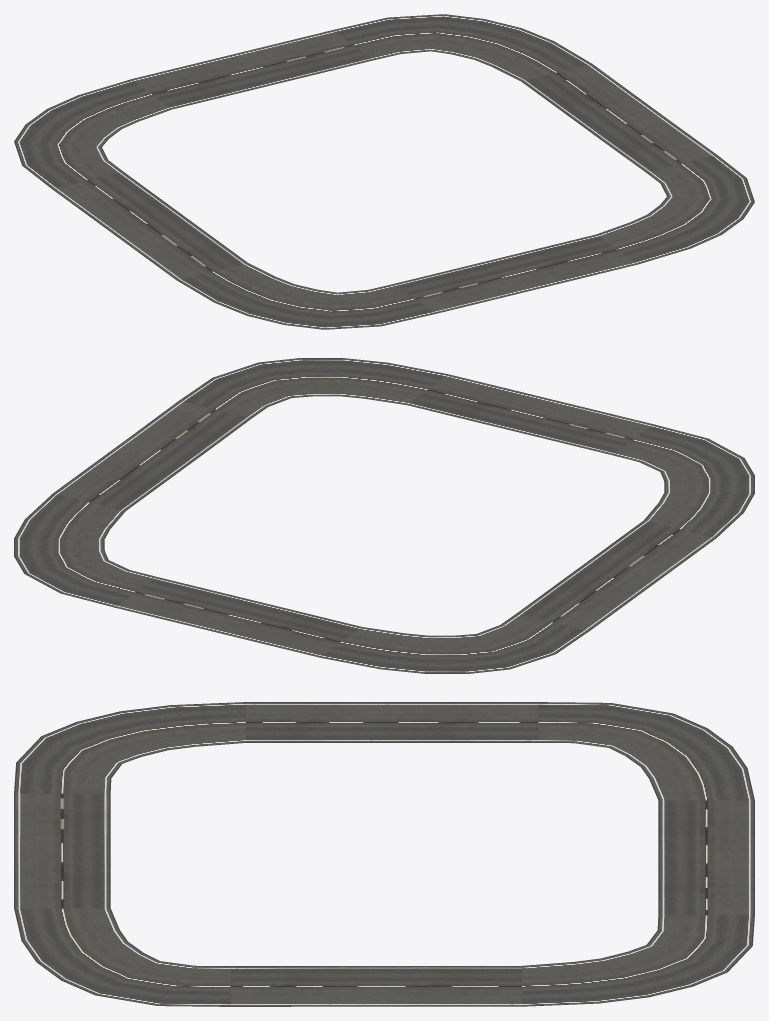
The model's file is road.glb.
The picture shows the model from 3 angles, top to bottom: view 1: azimuth 30°, elevation 25°; view 2: azimuth 150°, elevation 25°; view 3: azimuth 270°, elevation 25°; orthographic projection. The views are drawn at different scales.
Visible parts, largest first — view 1: Plane; view 2: Plane; view 3: Plane.
Part boxes in pixels (x1,y1,x2,y2): Plane: (14, 14, 754, 329); Plane: (14, 358, 754, 673); Plane: (14, 702, 754, 1006).
Size of the model in its own units: 49.61 by 1.22e-07 by 50.95.
Materials: 1 (1 with a texture image).
